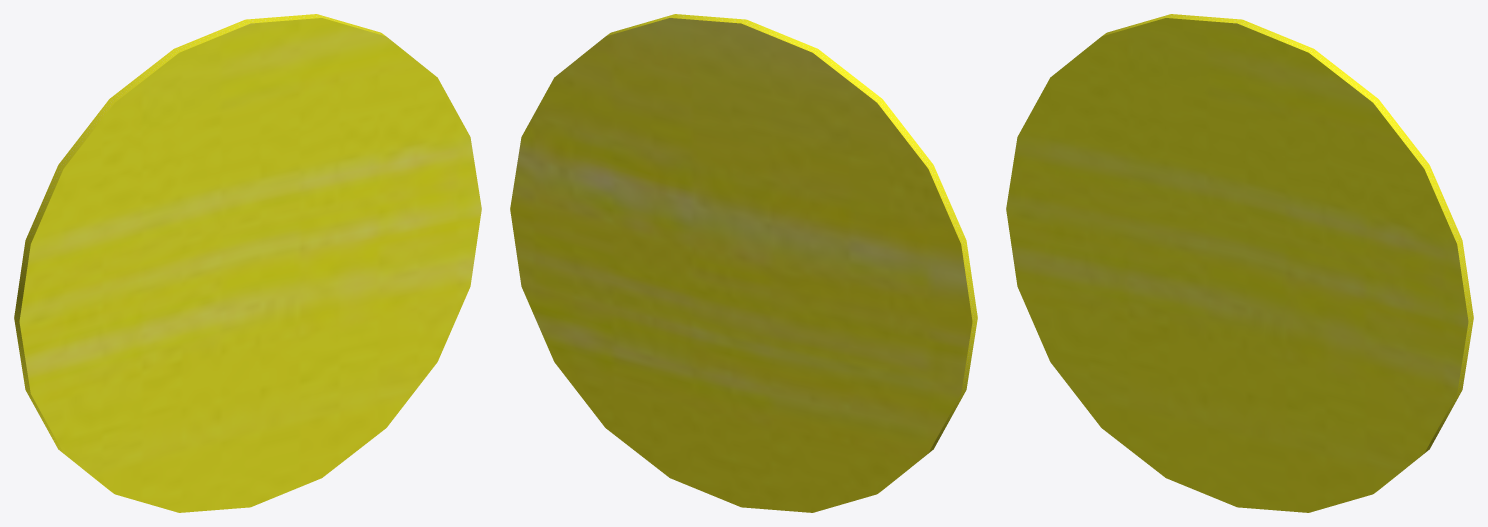
File: windowCirc.obj
3 renders of one model, left to right at view 1: azimuth 30°, elevation 25°; view 2: azimuth 150°, elevation 25°; view 3: azimuth 330°, elevation 25°, orthographic.
Visible parts, largest first — view 1: pCylinder1; view 2: pCylinder1; view 3: pCylinder1.
Boxes of the visible parts, x1,y1,x2,y2 form: pCylinder1: (14,14,481,512); pCylinder1: (510,14,977,512); pCylinder1: (1006,14,1473,512).
Size of the model in its own units: 5 by 5 by 0.1.
Materials: 1 (1 with a texture image).
